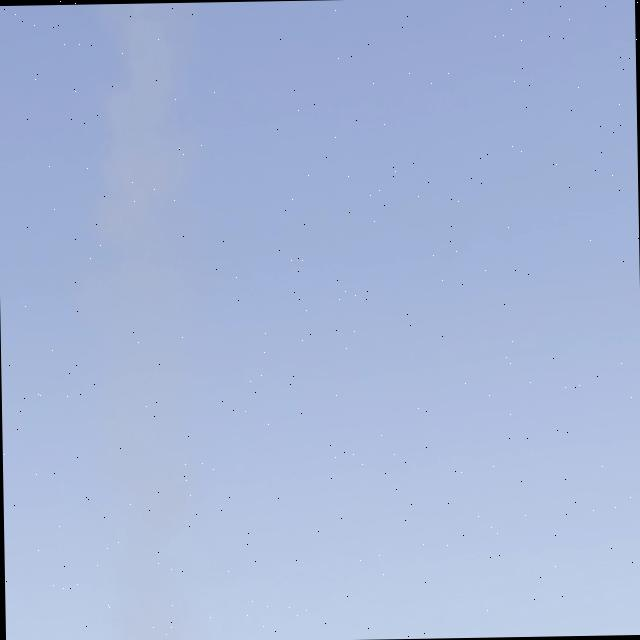smoke_trail_with_rocket: (105, 2, 191, 640)
